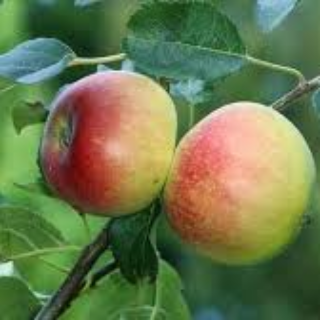tao: (161, 97, 318, 271), (39, 65, 179, 218)
